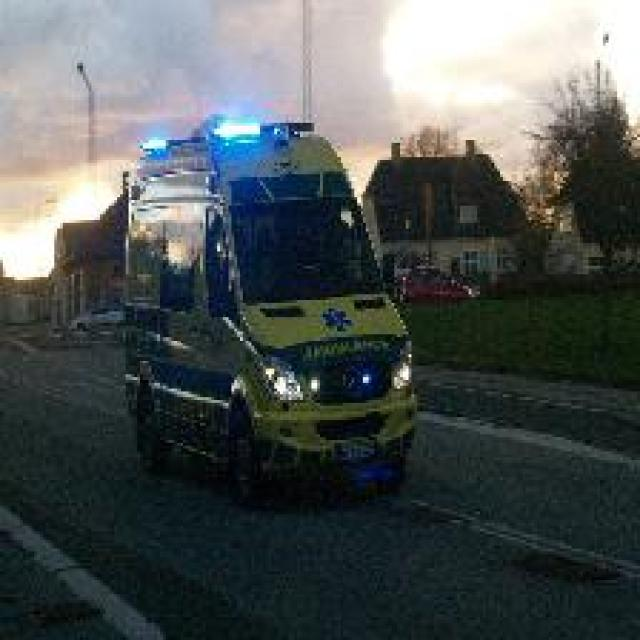Ambulance: (120, 111, 417, 503)
